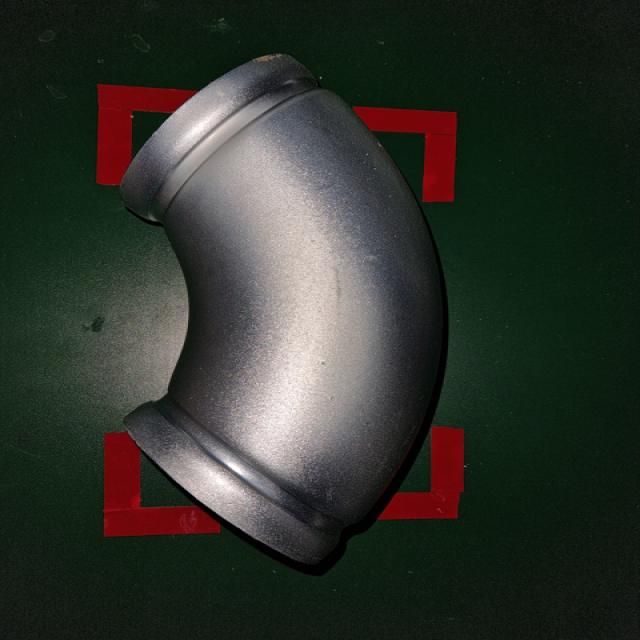Normal: (117, 46, 454, 575)
